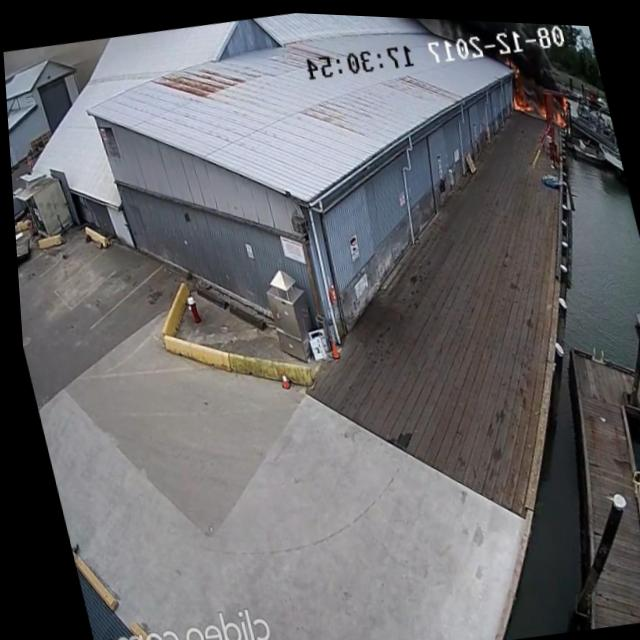fire: (506, 82, 537, 111), (547, 89, 571, 123), (537, 97, 547, 116), (512, 62, 520, 74)
